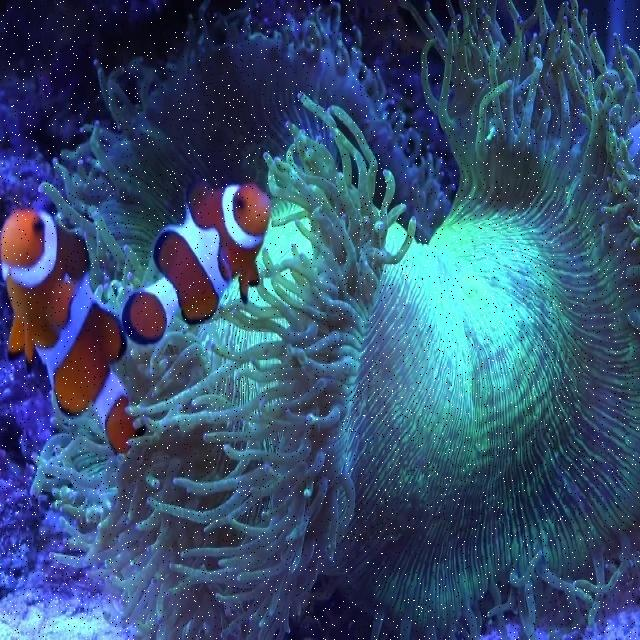fish: (1, 210, 147, 455), (121, 179, 271, 347)
reefs: (30, 0, 639, 639)
